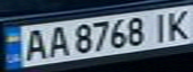6: (109, 16, 133, 50)
7: (90, 19, 112, 52)
8: (124, 15, 151, 47), (69, 20, 93, 55)
A: (18, 26, 51, 62), (42, 24, 72, 58)
I: (145, 10, 172, 43)
K: (163, 7, 193, 42)
